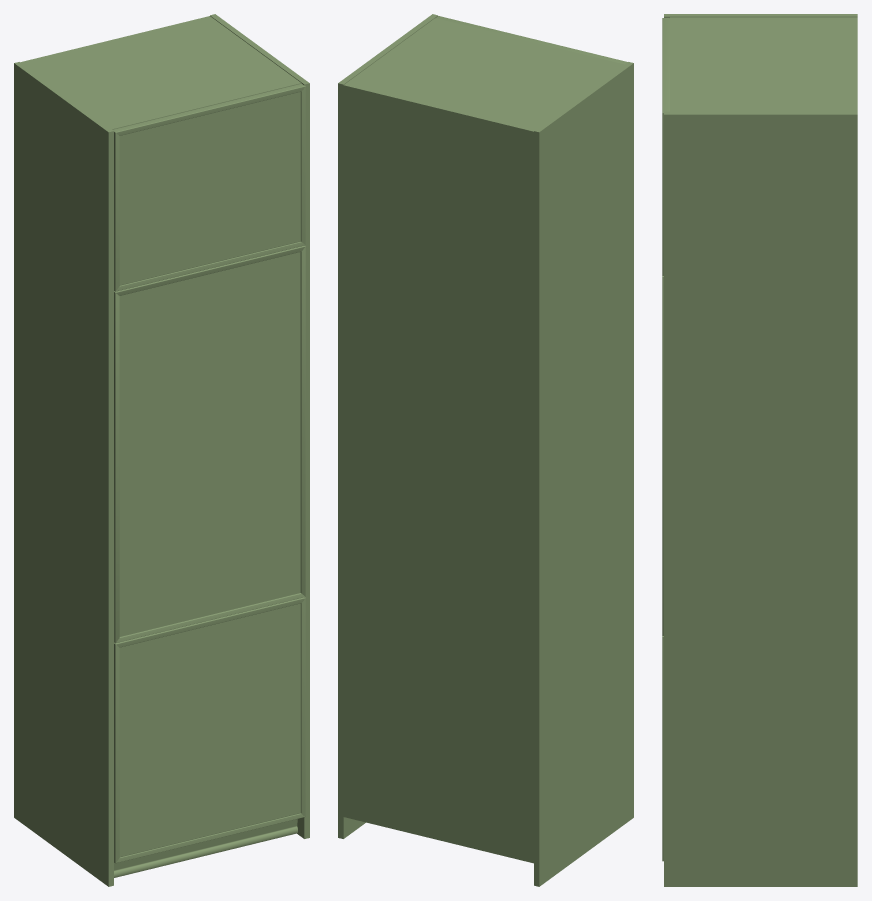
File: triple.gltf
3 renders of one model, left to right at view 1: azimuth 30°, elevation 25°; view 2: azimuth 150°, elevation 25°; view 3: azimuth 270°, elevation 25°, orthographic. The views are drawn at different scales.
Parts seen in each view (by area): view 1: Box8222857, Box8222890, Box8222891, Box8222892, Rectangle026, Rectangle044, Rectangle045, Box8222857.001, Rectangle046, SPR-5051; view 2: Box8222857, Rectangle025, Rectangle026, Rectangle024, Box8222857.001, Rectangle046; view 3: Box8222857.001, Rectangle026, Rectangle046, Box8222857, Rectangle044, Rectangle045.
Boxes of the visible parts, x1,y1,x2,y2 form: Box8222857: (14,62,113,886); Box8222890: (119,252,300,636); Box8222891: (119,603,300,856); Box8222892: (119,92,300,285); Rectangle026: (20,16,301,129); Rectangle044: (114,245,305,643); Rectangle045: (114,597,305,863); Box8222857.001: (210,14,309,838); Rectangle046: (113,83,305,291); SPR-5051: (114,819,297,877); Box8222857: (534,62,633,886); Rectangle025: (342,245,533,643); Rectangle026: (342,18,624,291); Rectangle024: (342,597,533,863); Box8222857.001: (338,14,437,838); Rectangle046: (436,16,627,64); Box8222857.001: (664,111,857,886); Rectangle026: (670,17,857,111); Rectangle046: (662,18,669,275); Box8222857: (664,14,857,17); Rectangle044: (662,276,663,635); Rectangle045: (662,636,663,861).
Bounding box in the file's own units: 0.7367 × 2.64 × 0.6055.
